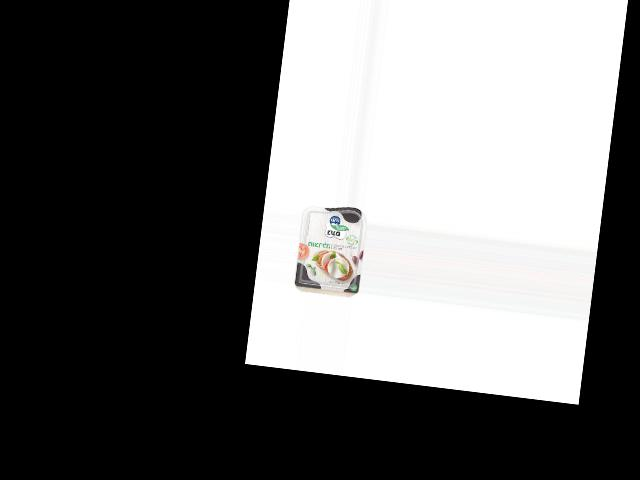cheese: (293, 202, 368, 294)
